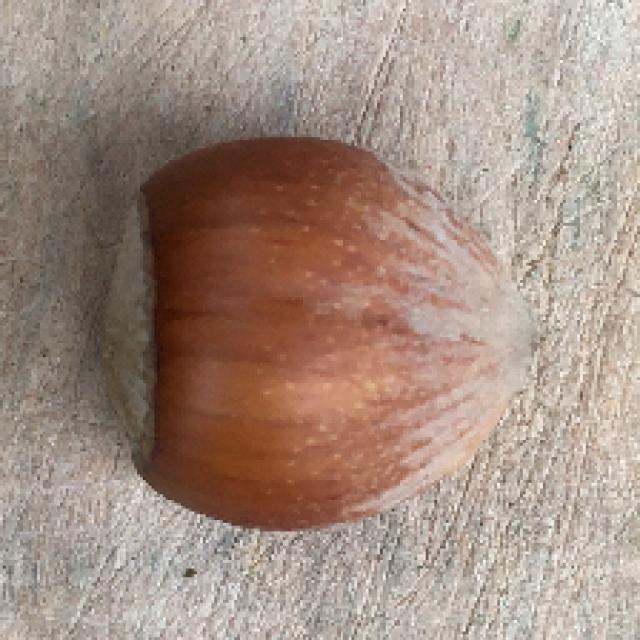qualityHazelnut: (94, 128, 546, 538)
